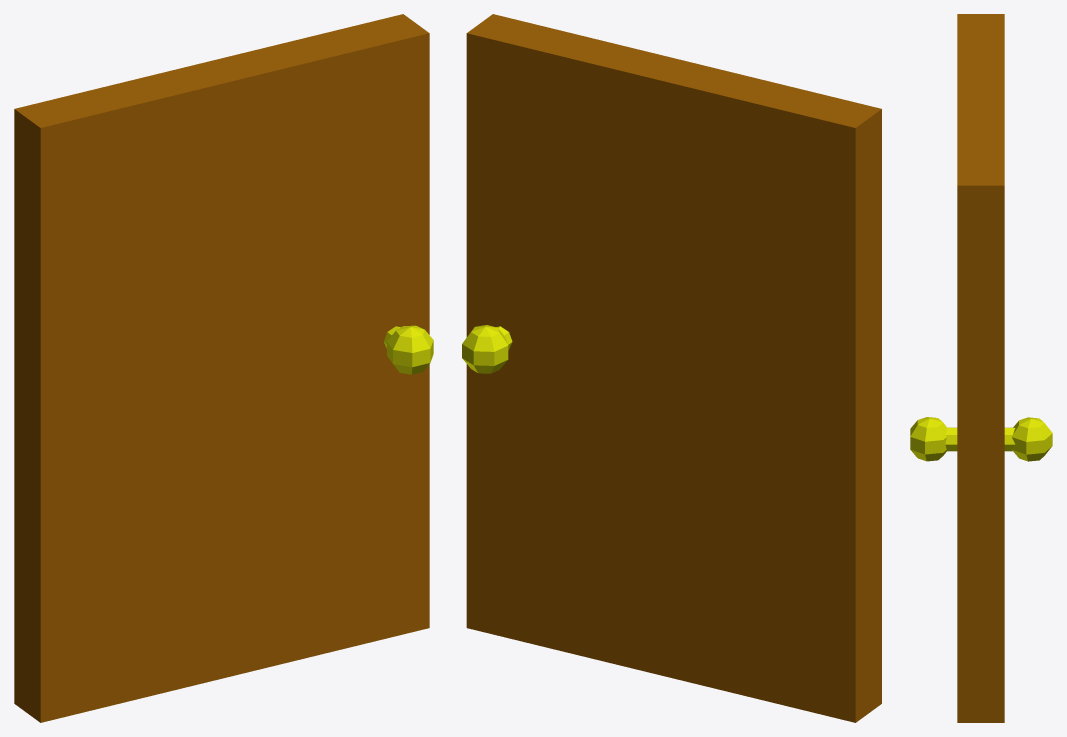
The model's file is door.fbx.
3 renders of one model, left to right at view 1: azimuth 30°, elevation 25°; view 2: azimuth 150°, elevation 25°; view 3: azimuth 270°, elevation 25°, orthographic. The views are drawn at different scales.
Visible parts, largest first — view 1: Cube; view 2: Cube; view 3: Cube.
Part boxes in pixels (bbox=[...]): Cube: bbox=[14, 14, 433, 722]; Cube: bbox=[462, 14, 881, 722]; Cube: bbox=[910, 14, 1052, 722].
Size of the model in its own units: 171 by 250 by 60.05.
